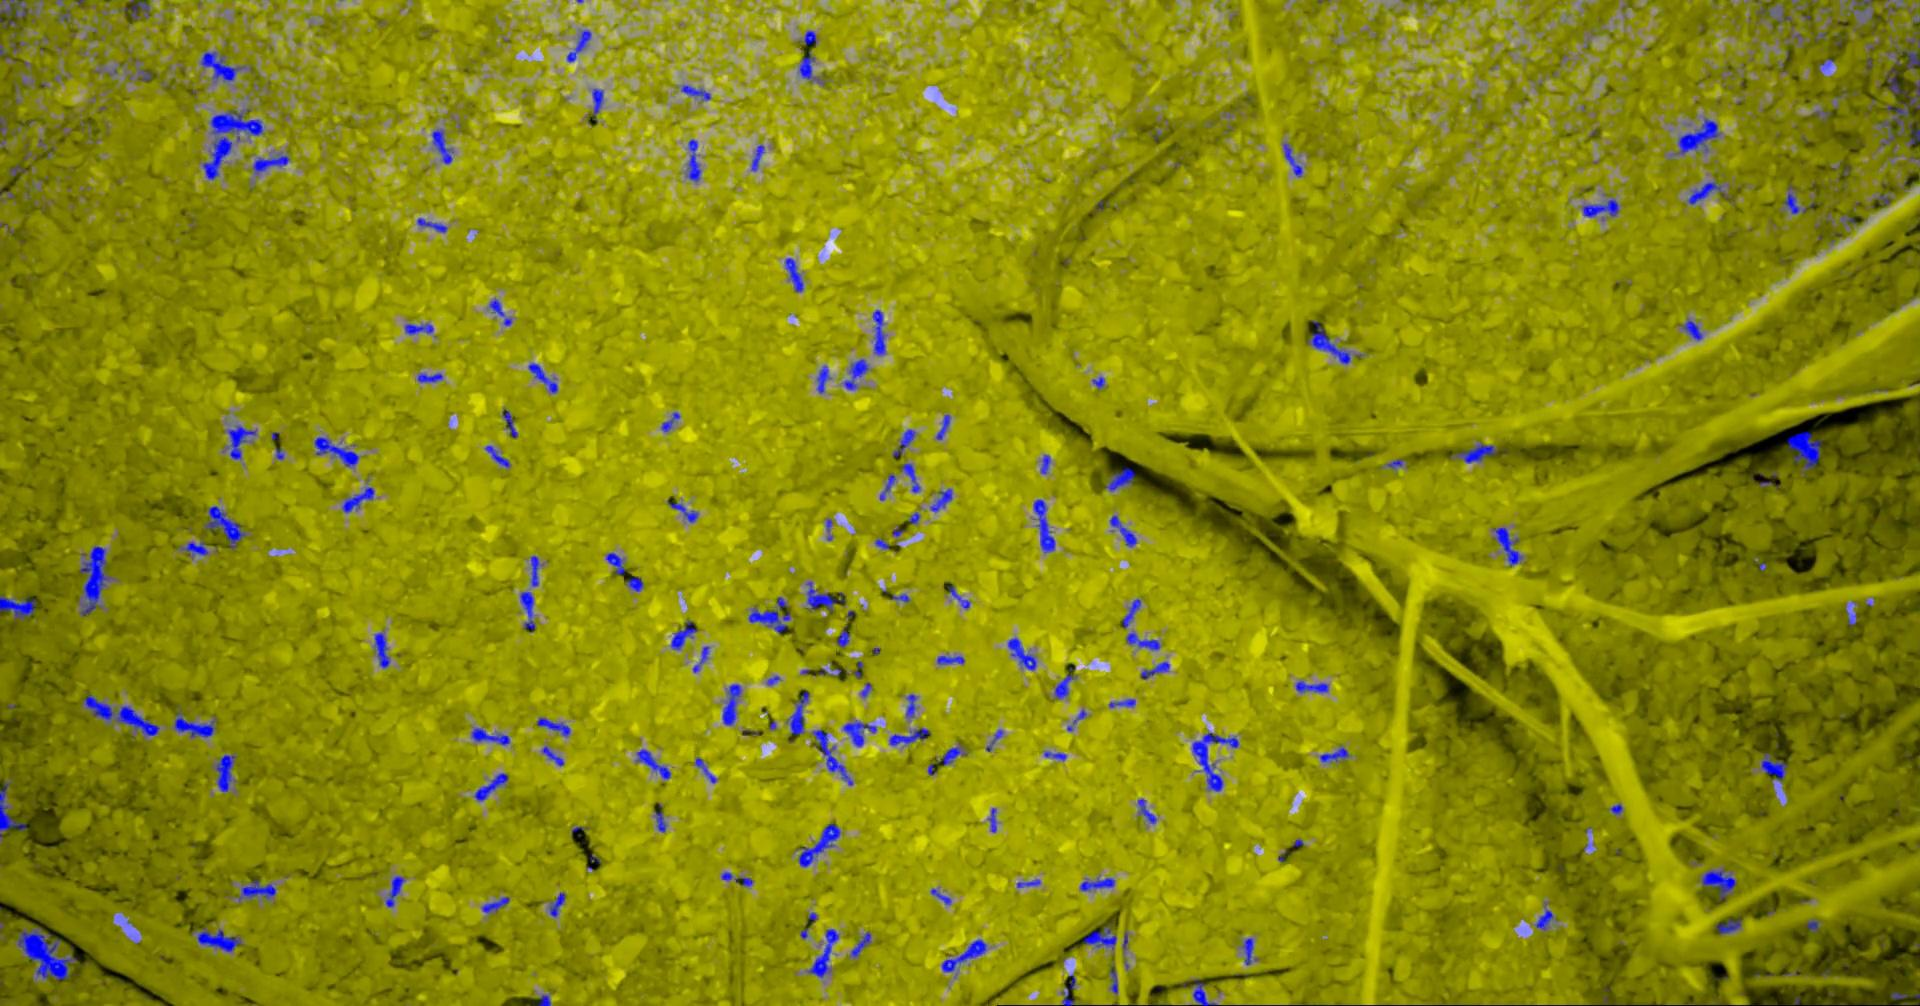ant: (1879, 58, 1919, 145), (83, 694, 159, 735), (1192, 732, 1238, 791), (811, 729, 852, 785), (79, 545, 109, 615), (1307, 320, 1350, 363), (797, 823, 841, 866), (204, 506, 245, 547), (0, 777, 27, 837), (1785, 431, 1821, 475), (808, 929, 838, 977), (941, 937, 985, 970), (1677, 118, 1719, 152), (173, 705, 216, 737), (201, 51, 245, 81), (314, 436, 358, 466), (1492, 527, 1523, 567), (1032, 499, 1054, 553), (1686, 180, 1733, 205), (196, 927, 243, 951), (806, 580, 844, 610), (635, 748, 670, 779), (748, 607, 790, 633), (1702, 869, 1736, 899), (227, 426, 257, 459), (1007, 636, 1036, 669), (474, 772, 507, 800), (842, 719, 876, 746), (528, 362, 557, 392), (1109, 514, 1137, 546), (787, 691, 808, 734), (0, 594, 36, 619), (721, 683, 742, 725), (1083, 923, 1116, 949), (237, 879, 276, 901), (342, 486, 373, 512), (1455, 443, 1497, 462), (1895, 36, 1919, 69), (430, 130, 453, 164), (889, 727, 930, 746), (566, 30, 590, 62), (1053, 666, 1076, 699), (215, 754, 235, 791), (0, 0, 28, 27), (843, 359, 869, 389), (670, 620, 696, 649), (471, 727, 509, 746), (1760, 753, 1787, 780), (1105, 467, 1135, 490), (251, 155, 290, 173), (1783, 185, 1807, 213), (891, 428, 914, 457), (1581, 199, 1618, 217), (783, 257, 803, 291), (536, 716, 570, 735), (1192, 978, 1217, 1005), (684, 138, 700, 180), (519, 591, 535, 633), (1283, 144, 1302, 177), (488, 298, 510, 325), (385, 875, 404, 907), (937, 743, 965, 765), (668, 502, 697, 522), (872, 309, 885, 354), (484, 445, 509, 467), (1126, 633, 1161, 649), (1140, 661, 1170, 680), (695, 757, 716, 782), (900, 464, 919, 492), (947, 584, 969, 608), (1123, 598, 1140, 627), (850, 931, 870, 956), (375, 633, 389, 668), (930, 488, 951, 511), (123, 0, 149, 19), (1137, 798, 1156, 823), (720, 871, 752, 887), (681, 84, 710, 100), (1079, 876, 1114, 890), (1060, 974, 1076, 1005), (879, 473, 895, 500), (481, 895, 509, 912), (1534, 903, 1552, 929), (417, 217, 446, 232), (502, 408, 517, 437), (1319, 746, 1349, 761), (604, 553, 625, 574), (541, 746, 563, 766), (590, 88, 603, 122), (799, 50, 814, 77), (179, 541, 207, 556), (692, 647, 709, 672), (1295, 680, 1328, 692), (549, 890, 565, 916), (1683, 319, 1702, 340), (1714, 918, 1741, 934), (1241, 937, 1256, 964), (935, 414, 950, 439), (660, 412, 679, 431), (985, 729, 1002, 751), (750, 144, 763, 171), (817, 365, 829, 392), (930, 888, 950, 904), (404, 323, 433, 334), (654, 803, 665, 832), (836, 625, 850, 647), (1109, 960, 1117, 993), (530, 555, 538, 586), (625, 575, 643, 591), (936, 655, 964, 664), (1109, 699, 1135, 708), (905, 694, 916, 716), (417, 373, 442, 382), (987, 807, 996, 832), (1016, 878, 1040, 887), (1043, 751, 1065, 760), (803, 30, 817, 44), (1040, 453, 1050, 473), (1804, 920, 1818, 932), (1855, 0, 1870, 10), (536, 995, 550, 1005)
